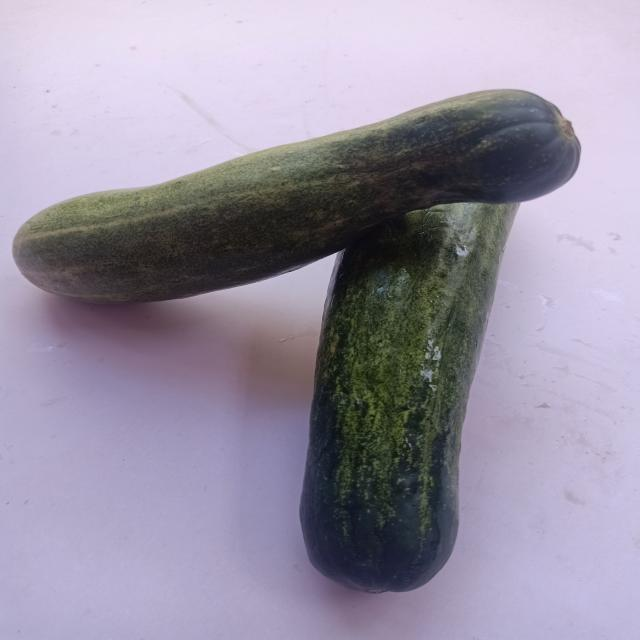Cucumber: (12, 89, 581, 303), (300, 203, 518, 594)
